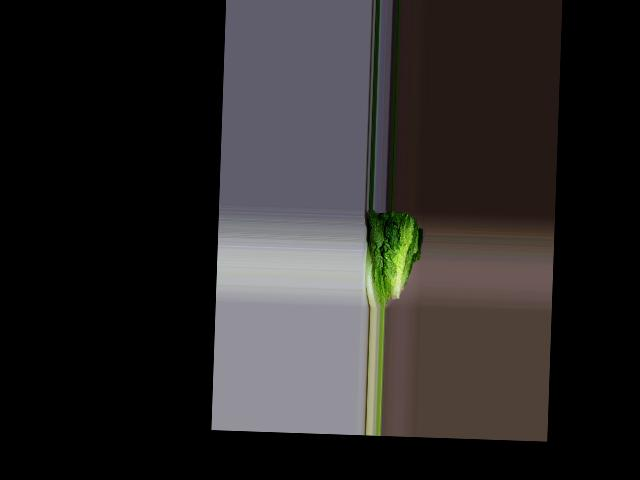lettuce: (362, 209, 416, 304)
